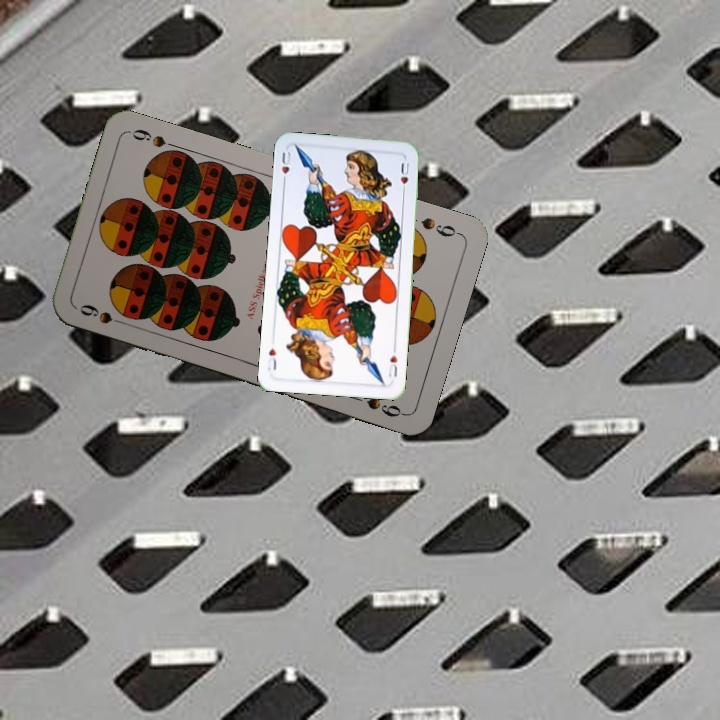HU: (277, 147, 293, 187), (384, 343, 400, 380)
S9: (75, 300, 132, 328), (417, 213, 463, 240)
